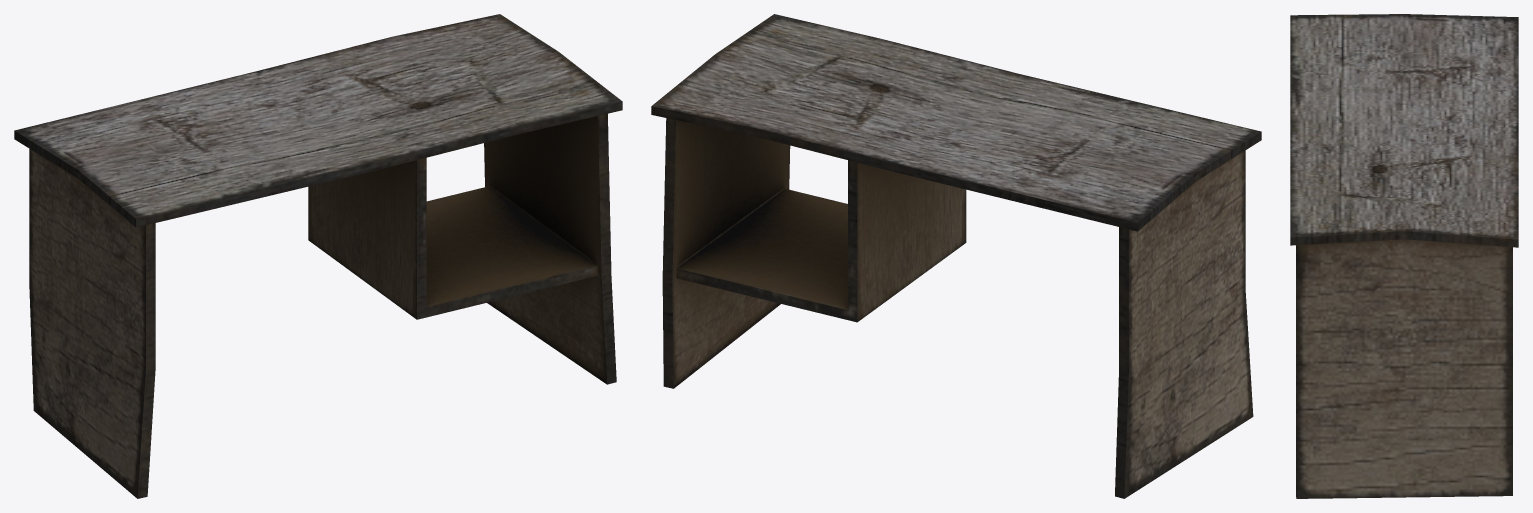
The model's file is BrokenDesk_02.FBX.
3 renders of one model, left to right at view 1: azimuth 30°, elevation 25°; view 2: azimuth 150°, elevation 25°; view 3: azimuth 270°, elevation 25°, orthographic. The views are drawn at different scales.
Parts seen in each view (by area): view 1: BrokenDesk_02; view 2: BrokenDesk_02; view 3: BrokenDesk_02.
Part boxes in pixels (x1,y1,x2,y2): BrokenDesk_02: (14, 14, 622, 498); BrokenDesk_02: (651, 14, 1261, 498); BrokenDesk_02: (1290, 14, 1518, 498).
Size of the model in its own units: 149 by 84.16 by 65.02.
